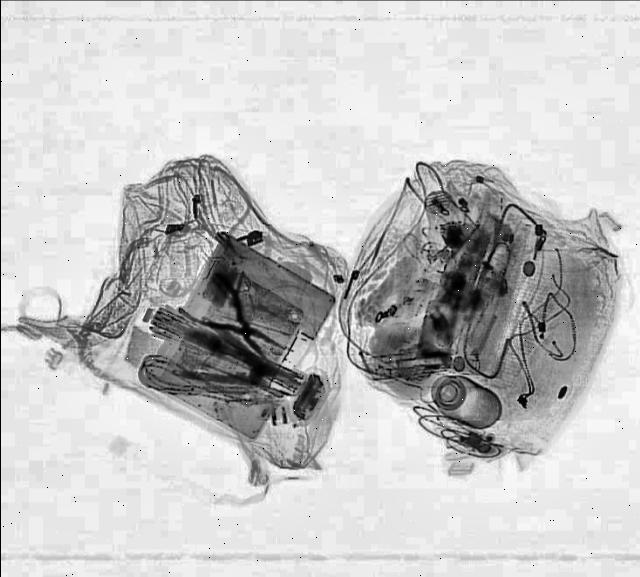Pliers: (172, 270, 298, 374)
